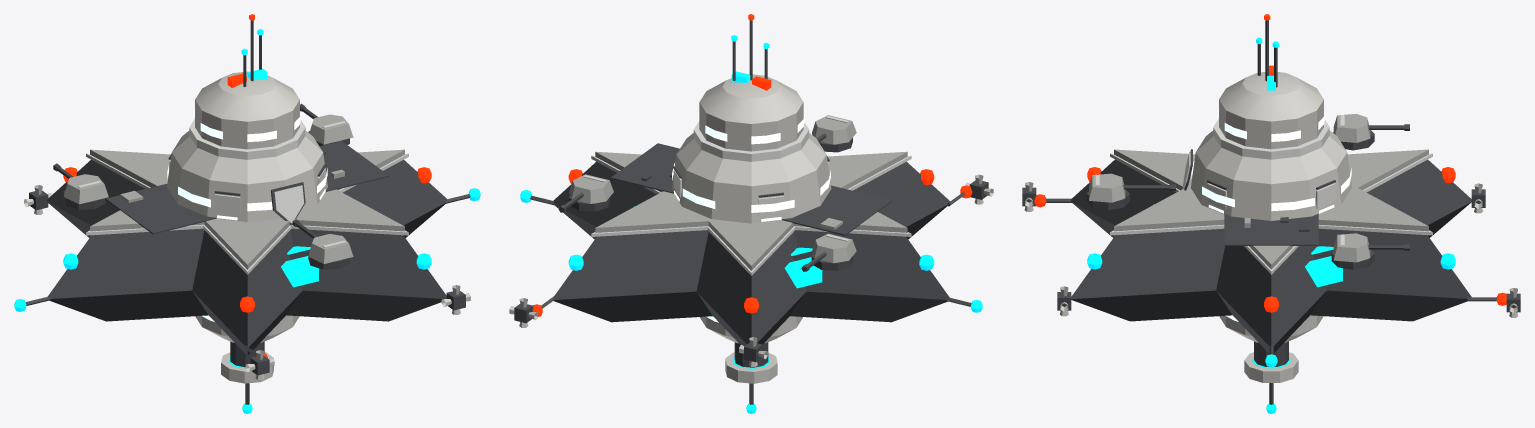
Rendered from police_station.glb.
3 views of the same model, side by side, from view 1: azimuth 30°, elevation 25°; view 2: azimuth 150°, elevation 25°; view 3: azimuth 270°, elevation 25° (orthographic).
Parts seen in each view (by area): view 1: police_station, Turret_2, Turret_1, Turret_0; view 2: police_station, Turret_0, Turret_1, Turret_2; view 3: police_station, Turret_2, Turret_0, Turret_1.
Part boxes in pixels (bbox=[...]): police_station: bbox=[14, 14, 480, 413]; Turret_2: bbox=[292, 219, 353, 269]; Turret_1: bbox=[53, 163, 108, 209]; Turret_0: bbox=[300, 103, 353, 146]; police_station: bbox=[509, 14, 993, 413]; Turret_0: bbox=[558, 174, 613, 212]; Turret_1: bbox=[801, 233, 856, 271]; Turret_2: bbox=[812, 115, 856, 152]; police_station: bbox=[1022, 14, 1520, 413]; Turret_2: bbox=[1086, 173, 1175, 210]; Turret_0: bbox=[1331, 233, 1409, 269]; Turret_1: bbox=[1333, 114, 1409, 150].
Bounding box in the file's own units: 1.9 × 1.56 × 1.76.
